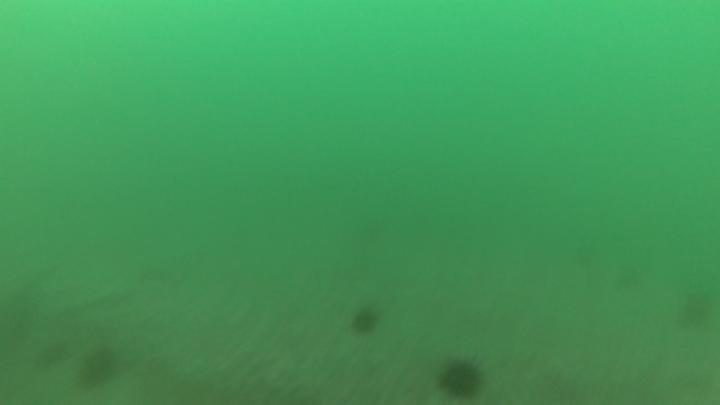echinus: (434, 353, 489, 402), (73, 344, 120, 394), (676, 288, 720, 336), (31, 338, 73, 378), (347, 305, 385, 340)
